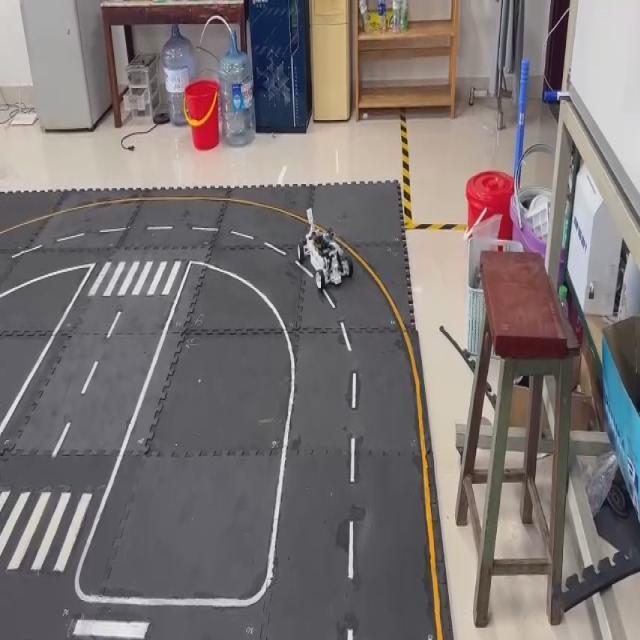SiCo-CAR: (295, 205, 354, 292)
